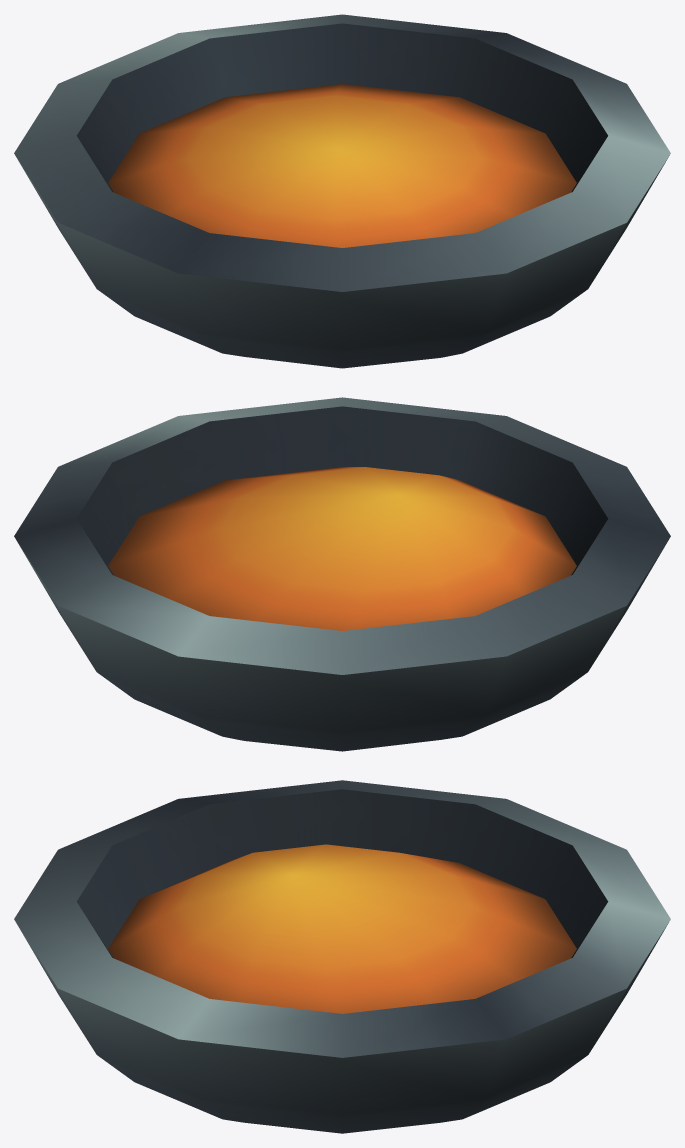
Rendered from fire_plane.fbx.
The picture shows the model from 3 angles, top to bottom: view 1: azimuth 30°, elevation 25°; view 2: azimuth 150°, elevation 25°; view 3: azimuth 270°, elevation 25°; orthographic projection.
Visible parts, largest first — view 1: fire_plane; view 2: fire_plane; view 3: fire_plane.
Part boxes in pixels (x1,y1,x2,y2): fire_plane: (14,14,670,368); fire_plane: (14,397,670,751); fire_plane: (14,780,670,1133).
Bounding box in the file's own units: 153 × 48.4 × 153.
